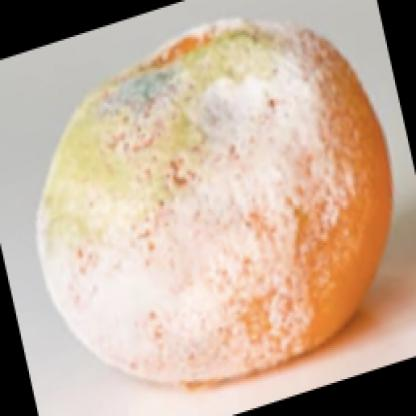rotten_orange: (38, 11, 393, 396)
